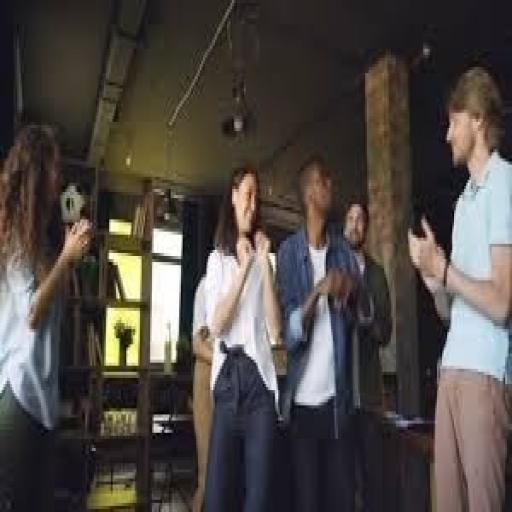clapping: (404, 61, 510, 509), (0, 119, 94, 509), (275, 149, 372, 509), (202, 161, 284, 509), (340, 192, 394, 509)
